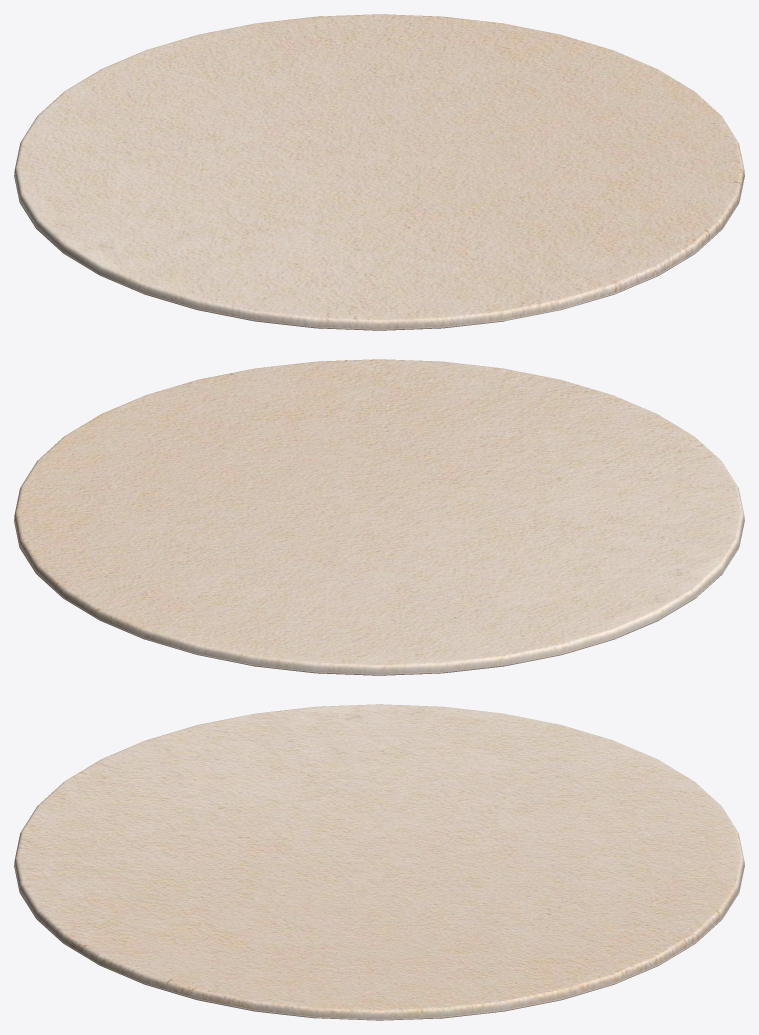
Rendered from 41 - STOENSE Rug, low pile - off-white 130 cm.glb.
3 renders of one model, top to bottom at view 1: azimuth 30°, elevation 25°; view 2: azimuth 150°, elevation 25°; view 3: azimuth 270°, elevation 25°, orthographic.
Parts seen in each view (by area): view 1: Mesh_2, Mesh_0; view 2: Mesh_2, Mesh_0; view 3: Mesh_2, Mesh_0.
Part boxes in pixels (left/top/right/bottom): Mesh_2: left=14, top=14, right=744, bottom=329; Mesh_0: left=14, top=174, right=744, bottom=330; Mesh_2: left=14, top=359, right=744, bottom=674; Mesh_0: left=14, top=519, right=744, bottom=675; Mesh_2: left=14, top=704, right=744, bottom=1019; Mesh_0: left=14, top=865, right=744, bottom=1020.
Bounding box in the file's own units: 1.3 × 0.018 × 1.3.
Materials: 2 (2 with a texture image).
